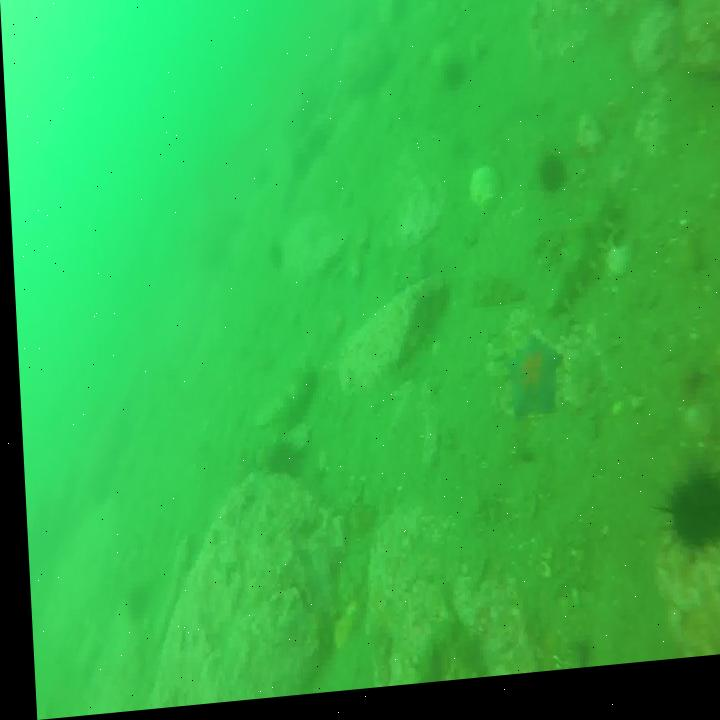echinus: (653, 474, 720, 561), (537, 159, 565, 208), (263, 441, 288, 485), (668, 0, 708, 22), (441, 67, 466, 102), (119, 590, 139, 621)
holothurian: (540, 191, 623, 323), (461, 276, 522, 315)
starfish: (496, 343, 561, 428)
